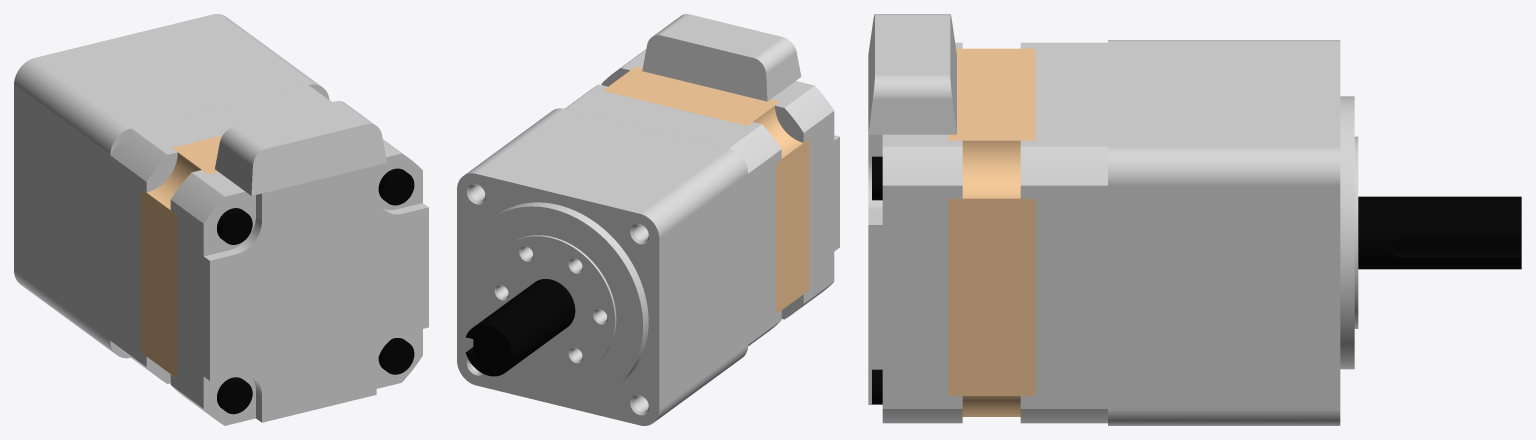
Rendered from Main_CRK543AP-H50.dae.
3 views of the same model, side by side, from view 1: azimuth 30°, elevation 25°; view 2: azimuth 150°, elevation 25°; view 3: azimuth 270°, elevation 25° (orthographic). The views are drawn at different scales.
Parts seen in each view (by area): view 1: Main_CRK543AP-H50; view 2: Main_CRK543AP-H50; view 3: Main_CRK543AP-H50.
Boxes of the visible parts, left/top/right/bottom form: Main_CRK543AP-H50: left=14, top=14, right=428, bottom=425; Main_CRK543AP-H50: left=457, top=14, right=839, bottom=425; Main_CRK543AP-H50: left=868, top=14, right=1521, bottom=425.
Bounding box in the file's own units: 0.042 × 0.09 × 0.0495.
